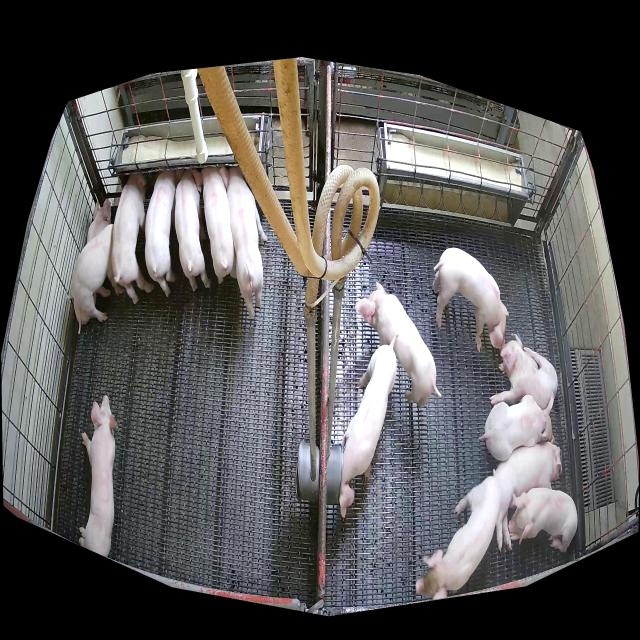pig: (355, 281, 441, 408), (339, 334, 397, 518), (416, 476, 501, 599), (433, 248, 508, 351), (494, 442, 562, 551), (220, 166, 268, 318), (78, 395, 118, 557), (112, 173, 154, 304), (68, 224, 122, 323), (193, 166, 238, 283), (480, 391, 554, 461), (490, 333, 558, 409), (508, 488, 578, 553), (175, 169, 211, 291), (145, 171, 176, 297), (87, 199, 112, 243)
